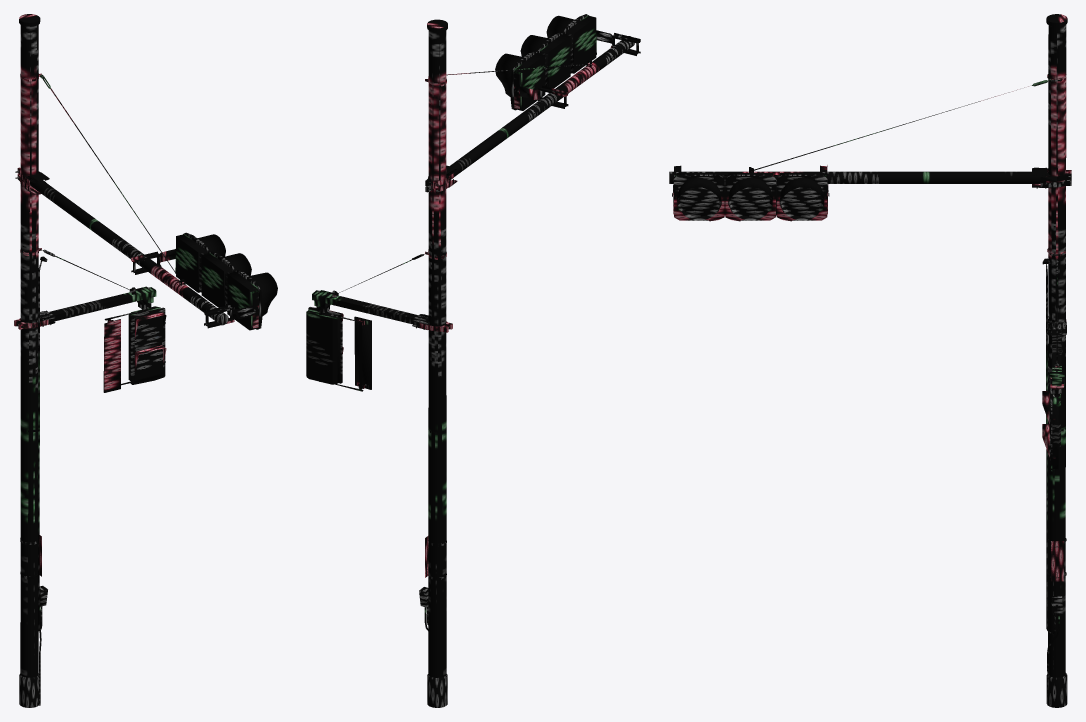
Rendered from traffic_light-1_lod.FBX.
3 views of the same model, side by side, from view 1: azimuth 30°, elevation 25°; view 2: azimuth 150°, elevation 25°; view 3: azimuth 270°, elevation 25° (orthographic).
Parts seen in each view (by area): view 1: traffic_light; view 2: traffic_light; view 3: traffic_light.
Part boxes in pixels (<box>): traffic_light: <box>14,14,277,707</box>; traffic_light: <box>306,14,640,707</box>; traffic_light: <box>669,14,1071,707</box>.
Size of the model in its own units: 63.12 by 280 by 149.
